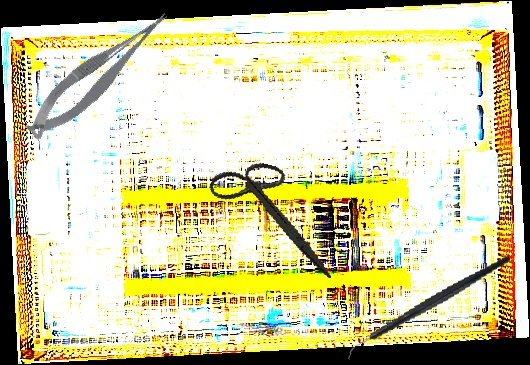Chopper: (335, 254, 523, 363)
Iris Scissors: (195, 151, 355, 279)
Micro Scissor: (14, 5, 185, 146)
